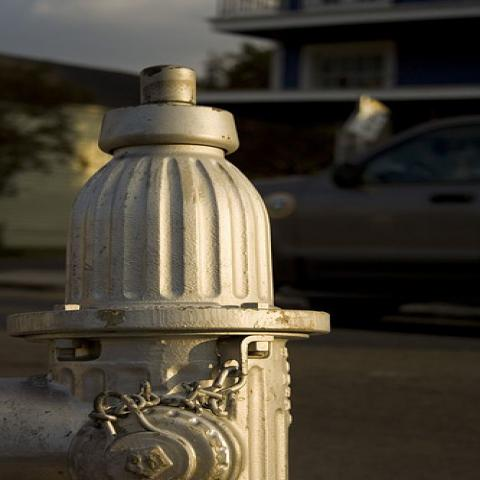truck: (253, 114, 478, 324)
